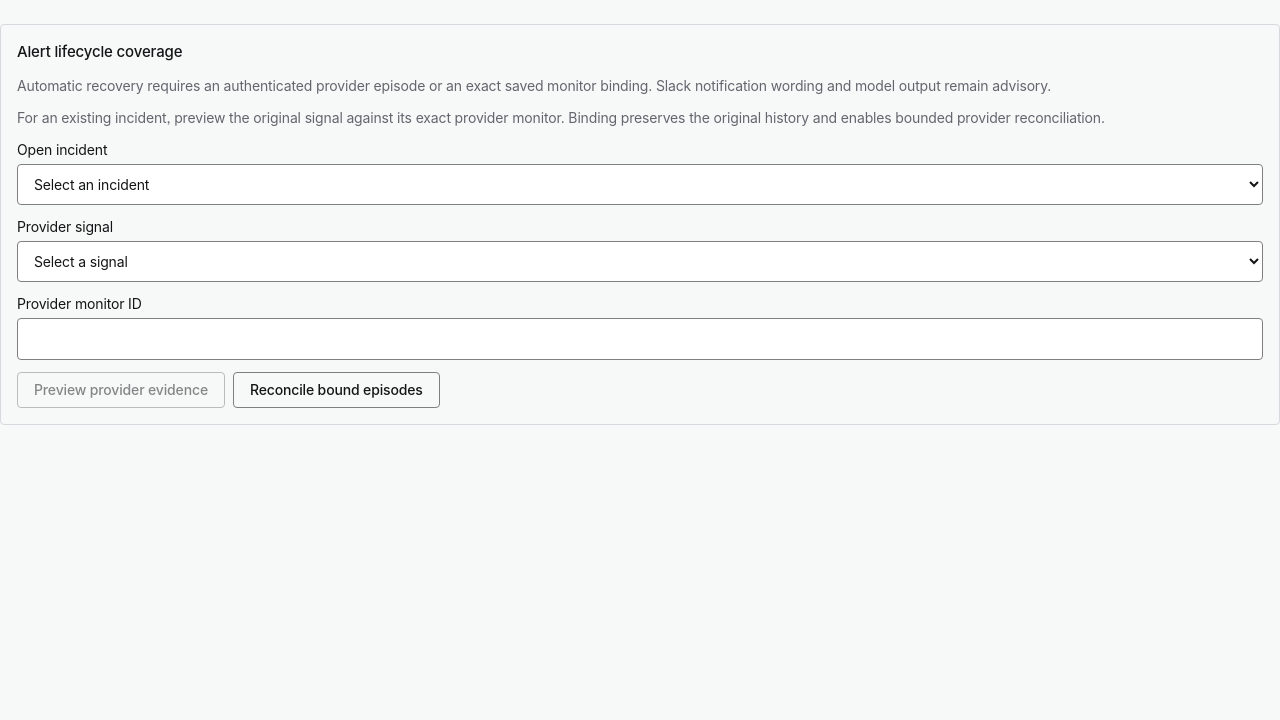
Test case: selects readable incidents and signals, previews evidence, and binds with fresh versions and a reason
Step 1. Select "Checkout timeout (sev2)" in the dropdown labelled "Open incident" → (640, 184), box [17, 164, 1263, 204]
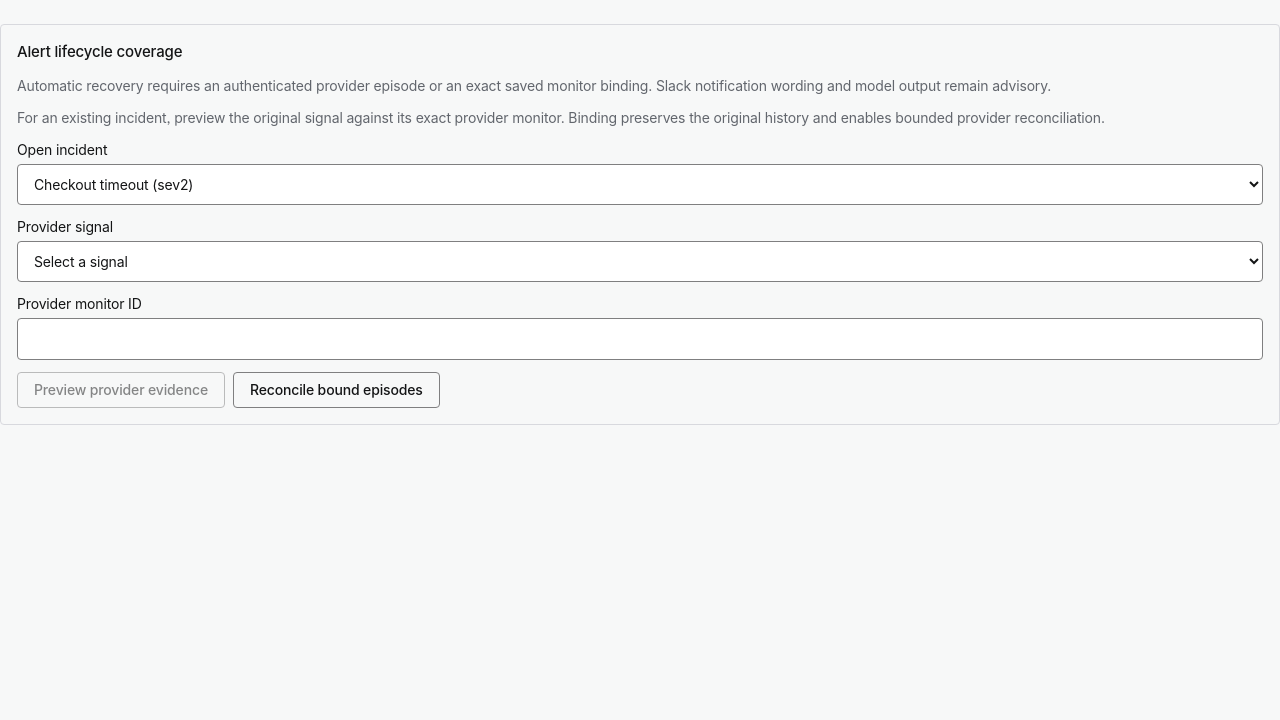
Step 2. Select "statuscake: Checkout timed out (firing)" in the dropdown labelled "Provider signal" → (640, 261), box [17, 240, 1263, 282]
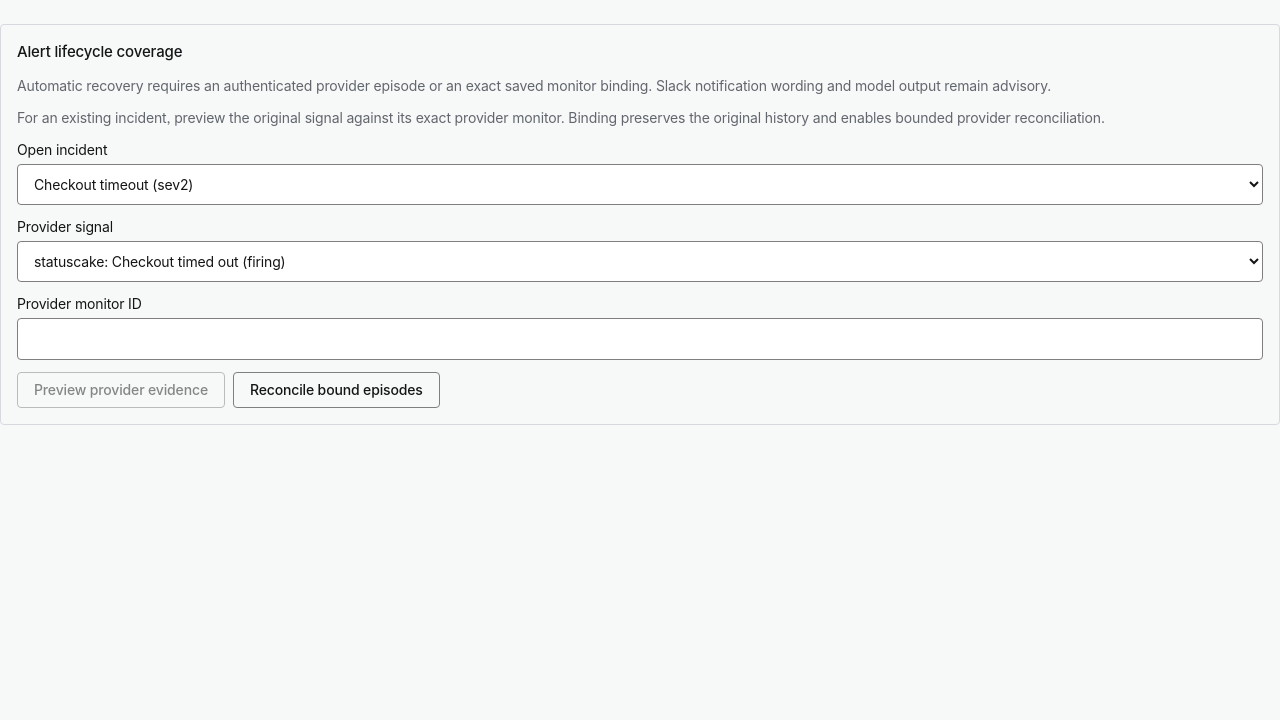
Step 3. Type "73" into the field labelled "Provider monitor ID" → (640, 338), box [17, 318, 1263, 360]
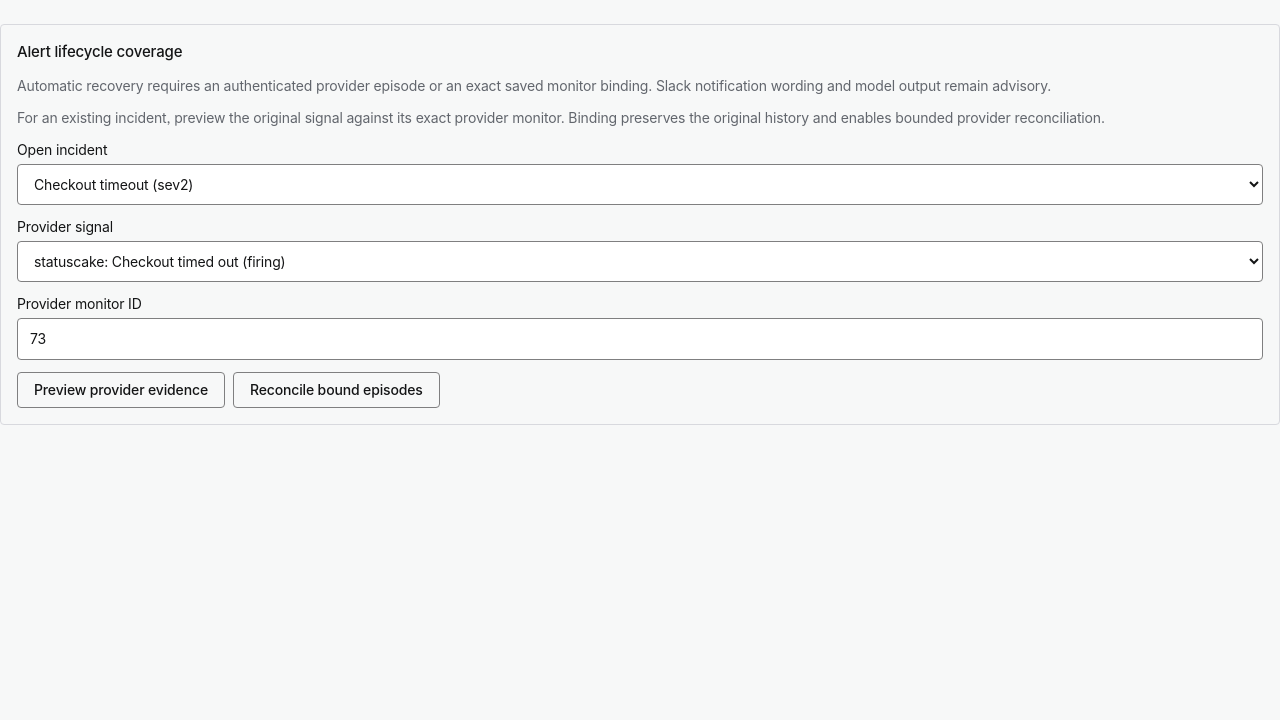
Step 4. Click the button "Preview provider evidence" → (121, 390), box [17, 372, 225, 408]
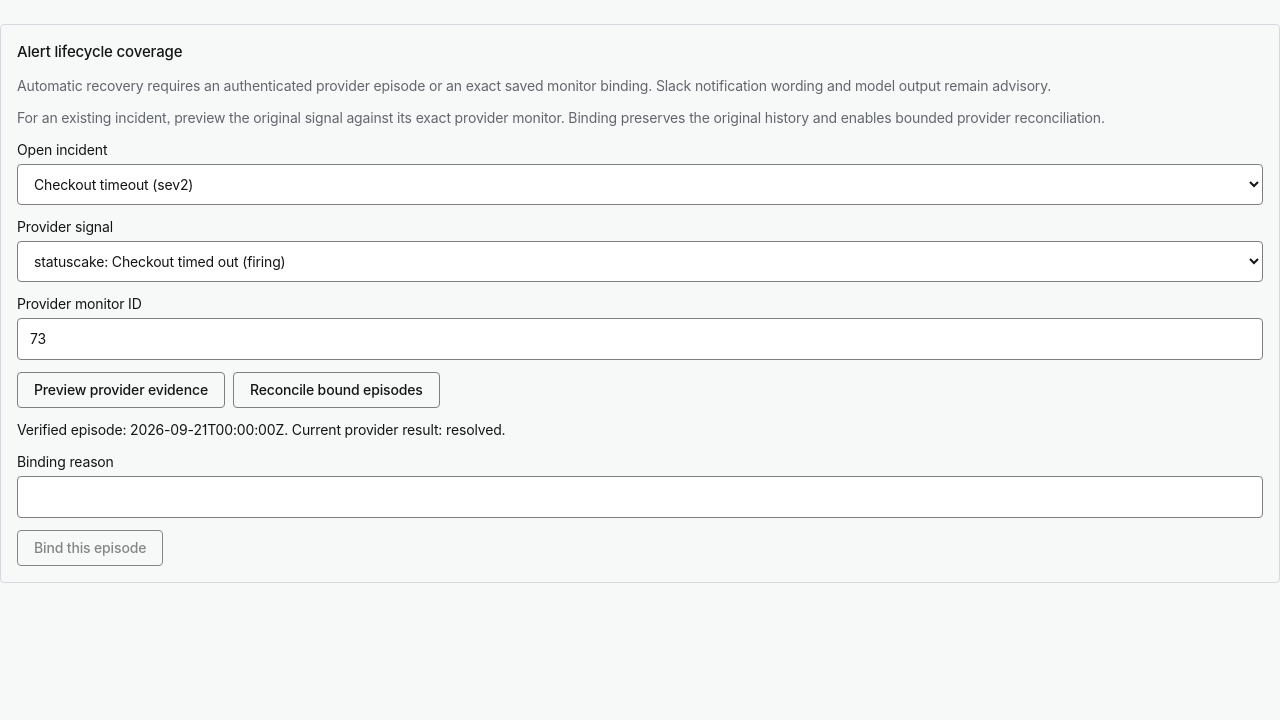
Result: the text "Verified episode:" is shown at [17, 420, 130, 438]
Result: the button "Bind this episode" is disabled at [17, 530, 163, 566]
Step 5. Type "Checked the exact provider test" into the field labelled "Binding reason" → (640, 496), box [17, 476, 1263, 518]
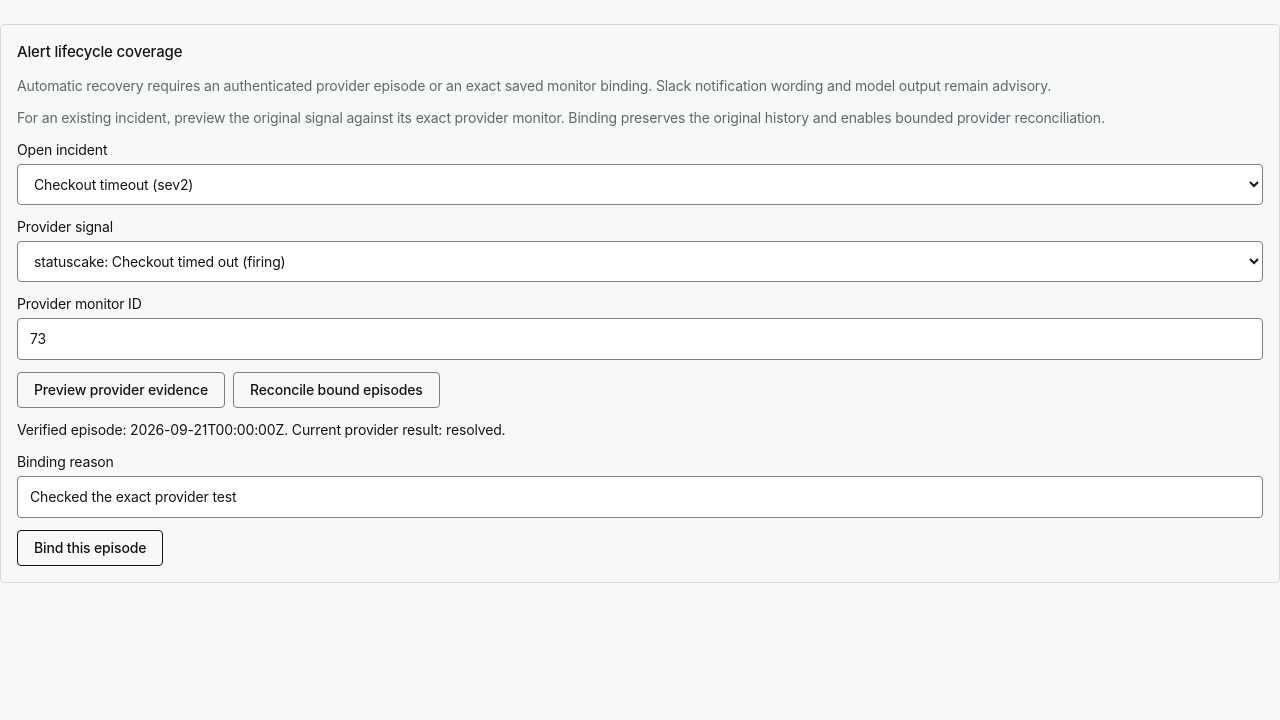
Step 6. Click the button "Bind this episode" → (90, 548), box [17, 530, 163, 566]
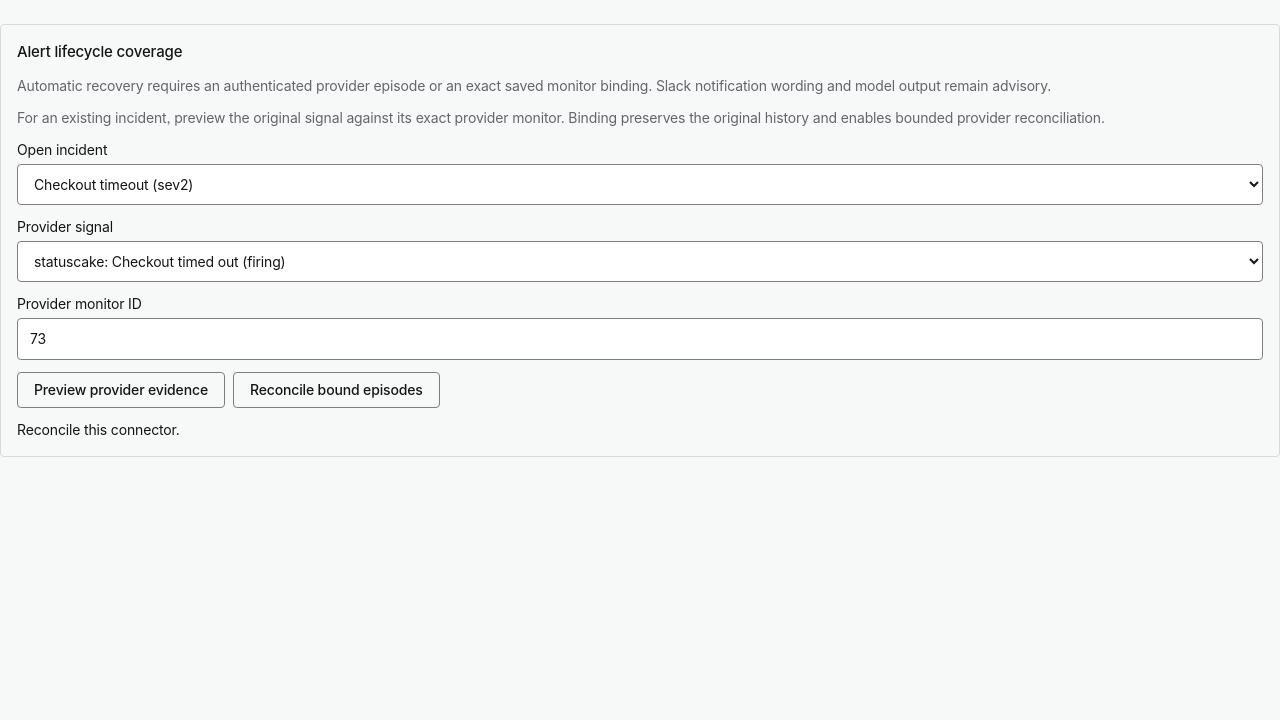
Result: the text "Reconcile this connector." is shown at [17, 420, 180, 438]
